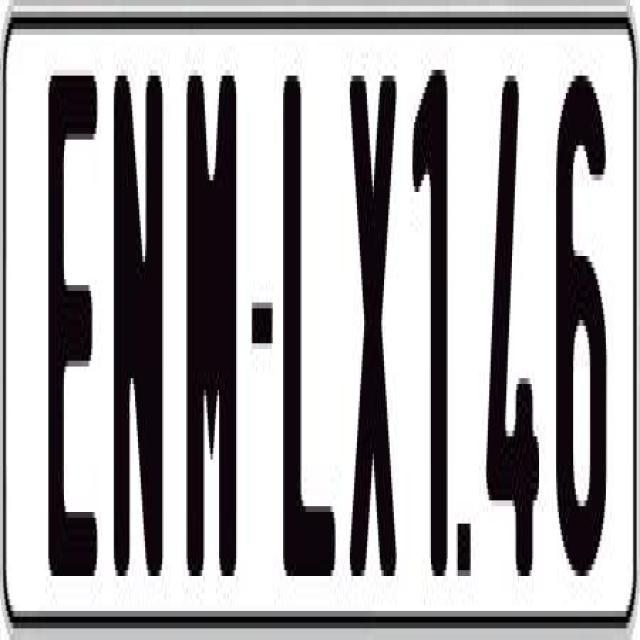1: (410, 58, 448, 588)
4: (486, 70, 545, 582)
6: (553, 64, 610, 582)
E: (45, 70, 101, 582)
L: (282, 70, 336, 570)
M: (184, 76, 238, 594)
N: (112, 64, 166, 570)
X: (346, 76, 396, 582)
